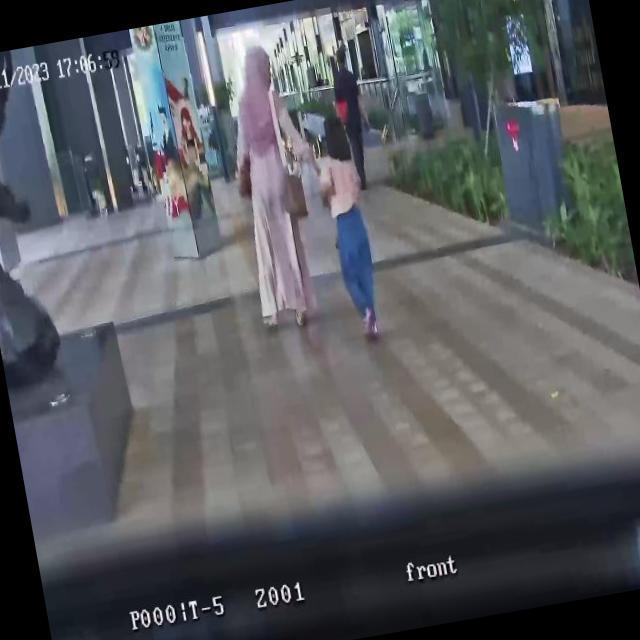person: (213, 38, 345, 334), (306, 110, 388, 344), (326, 46, 380, 192)
